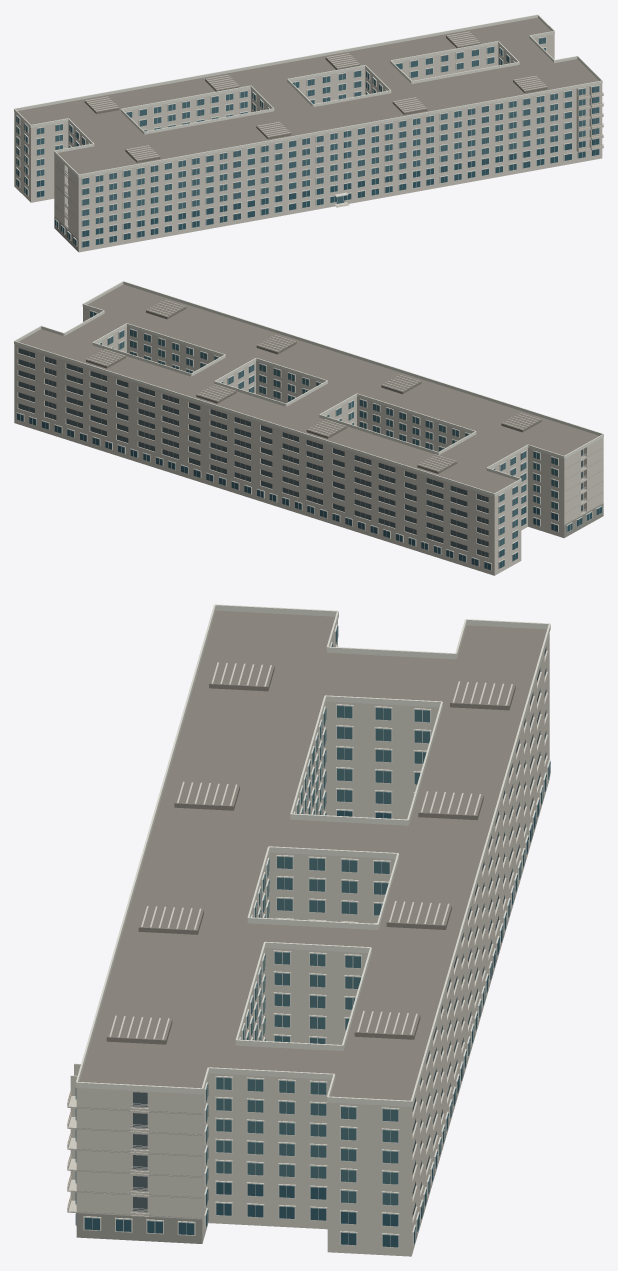
File: chunk-dorm-relation-12874253.glb
3 renders of one model, top to bottom at view 1: azimuth 30°, elevation 25°; view 2: azimuth 150°, elevation 25°; view 3: azimuth 270°, elevation 25°, orthographic. The views are drawn at different scales.
Parts seen in each view (by area): view 1: chunk-dorm-relation-12874253; view 2: chunk-dorm-relation-12874253; view 3: chunk-dorm-relation-12874253.
Boxes of the visible parts, bbox=[...] form: chunk-dorm-relation-12874253: bbox=[14, 14, 603, 252]; chunk-dorm-relation-12874253: bbox=[14, 281, 603, 575]; chunk-dorm-relation-12874253: bbox=[67, 604, 550, 1256].
Bounding box in the file's own units: 159 × 23.21 × 65.42.
Materials: 10 (1 with a texture image).
